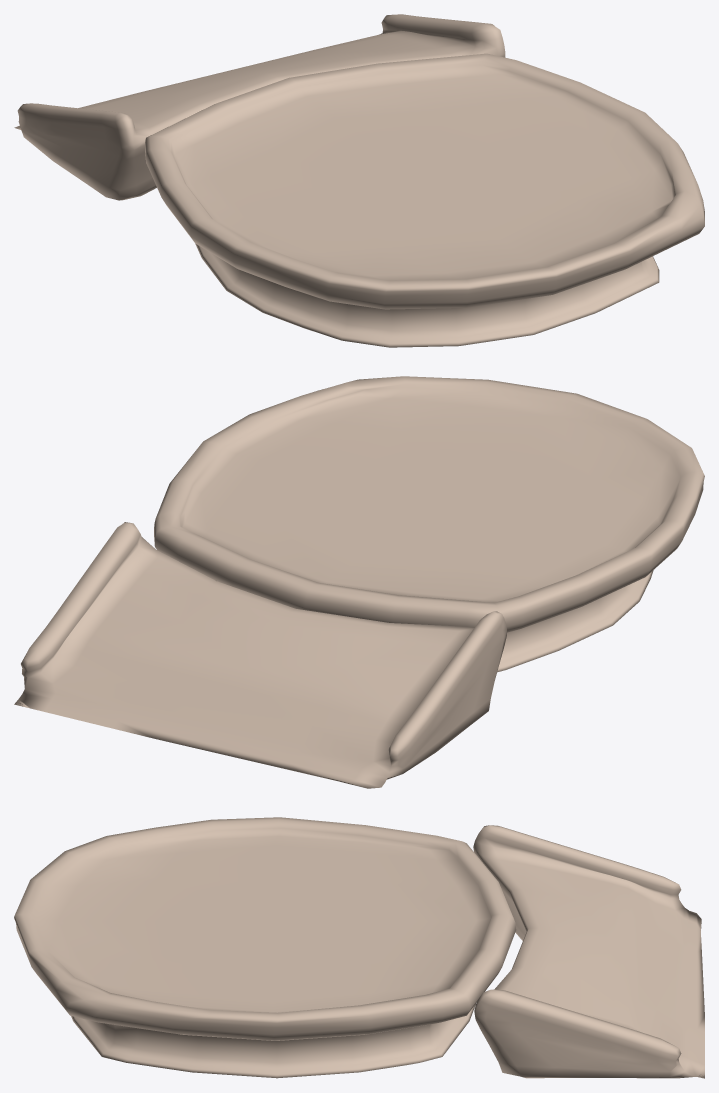
File: platform.fbx
3 renders of one model, top to bottom at view 1: azimuth 30°, elevation 25°; view 2: azimuth 150°, elevation 25°; view 3: azimuth 270°, elevation 25°, orthographic. The views are drawn at different scales.
Parts seen in each view (by area): view 1: platform; view 2: platform; view 3: platform.
Part boxes in pixels (x1,y1,x2,y2): platform: [14, 14, 704, 347]; platform: [14, 376, 704, 788]; platform: [14, 817, 704, 1078].
Bounding box in the file's own units: 2.86 × 0.582 × 4.09.
